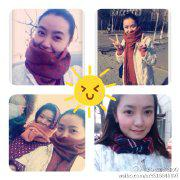NONE: (34, 24, 73, 62), (122, 103, 155, 138), (124, 22, 138, 38)
WRONG: (59, 119, 83, 149), (39, 111, 54, 132)
